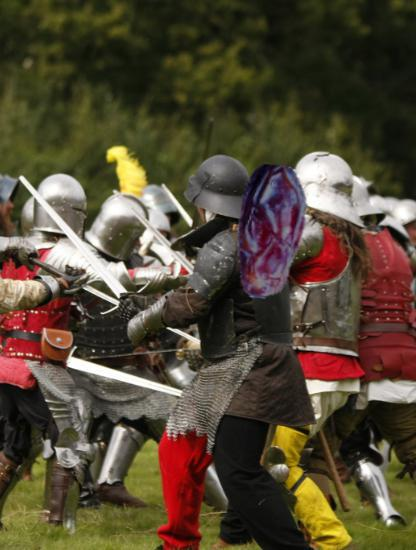Dates: (204, 165, 339, 300)
